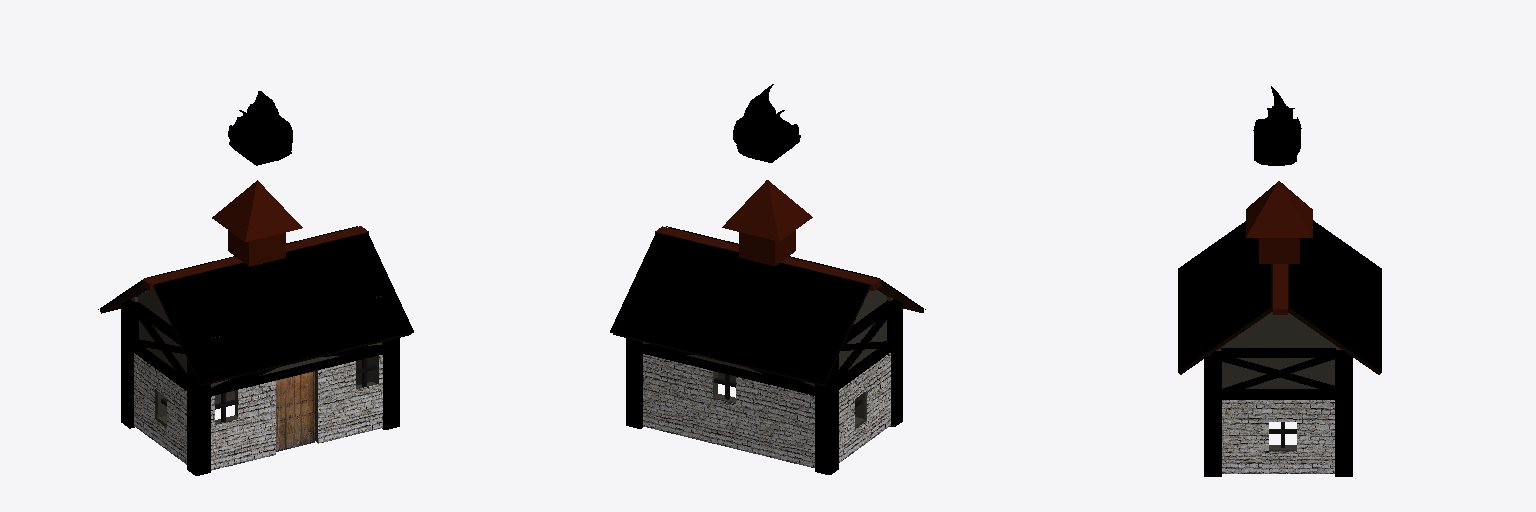
3 views of the same model, side by side, from view 1: azimuth 30°, elevation 25°; view 2: azimuth 150°, elevation 25°; view 3: azimuth 270°, elevation 25° (orthographic).
Parts seen in each view (by area): view 1: polySurface15 polySurface23, pCube33, pPlane8, pPlane9, polySurface45 FireGod:polySurface42, pPlane20, polySurface19, pCube22, pCube29, pPlane15, pPlane16, pCube24 (+2 smaller); view 2: polySurface15 polySurface24, pCube33, pPlane11, pPlane13, pPlane12, polySurface45 FireGod:polySurface42, pCube24, pCube29, pPlane16, polySurface19, pCube22, pPlane15 (+2 smaller); view 3: polySurface15 polySurface24, polySurface15 polySurface23, pPlane19, pCube33, polySurface19, polySurface45 FireGod:polySurface42, pCube23, pCube21, pCube30 polySurface37, polySurface36 pCube30, pCube30 polySurface39, pCube30 polySurface38.
Part boxes in pixels (x1,y1,x2,y2): polySurface15 polySurface23: (154,232,413,383); pCube33: (143,180,368,290); pPlane8: (211,381,275,470); pPlane9: (318,355,382,443); polySurface45 FireGod:polySurface42: (228,91,292,165); pPlane20: (276,371,314,451); polySurface19: (131,290,381,442); pCube22: (187,359,210,475); pCube29: (126,299,186,390); pPlane15: (134,353,171,447); pPlane16: (156,374,186,464); pCube24: (121,302,138,428); polySurface15 polySurface24: (610,232,869,383); pCube33: (655,180,880,290); pPlane11: (751,380,814,467); pPlane13: (683,364,758,454); pPlane12: (643,354,707,441); polySurface45 FireGod:polySurface42: (733,84,800,162); pCube24: (815,355,838,474); pCube29: (839,299,898,389); pPlane16: (854,353,890,448); polySurface19: (643,290,892,428); pCube22: (887,302,902,426); pPlane15: (839,366,871,462); polySurface15 polySurface24: (1289,220,1381,372); polySurface15 polySurface23: (1178,221,1270,372); pPlane19: (1222,400,1334,473); pCube33: (1246,181,1312,314); polySurface19: (1209,312,1341,451); polySurface45 FireGod:polySurface42: (1253,86,1301,165); pCube23: (1335,354,1352,476); pCube21: (1204,356,1221,476); pCube30 polySurface37: (1210,348,1347,357); polySurface36 pCube30: (1222,389,1334,399); pCube30 polySurface39: (1222,358,1334,391); pCube30 polySurface38: (1222,358,1334,391).
Bounding box in the file's own units: 14.41 × 21.3 × 11.68.
15 materials, 3 textured.